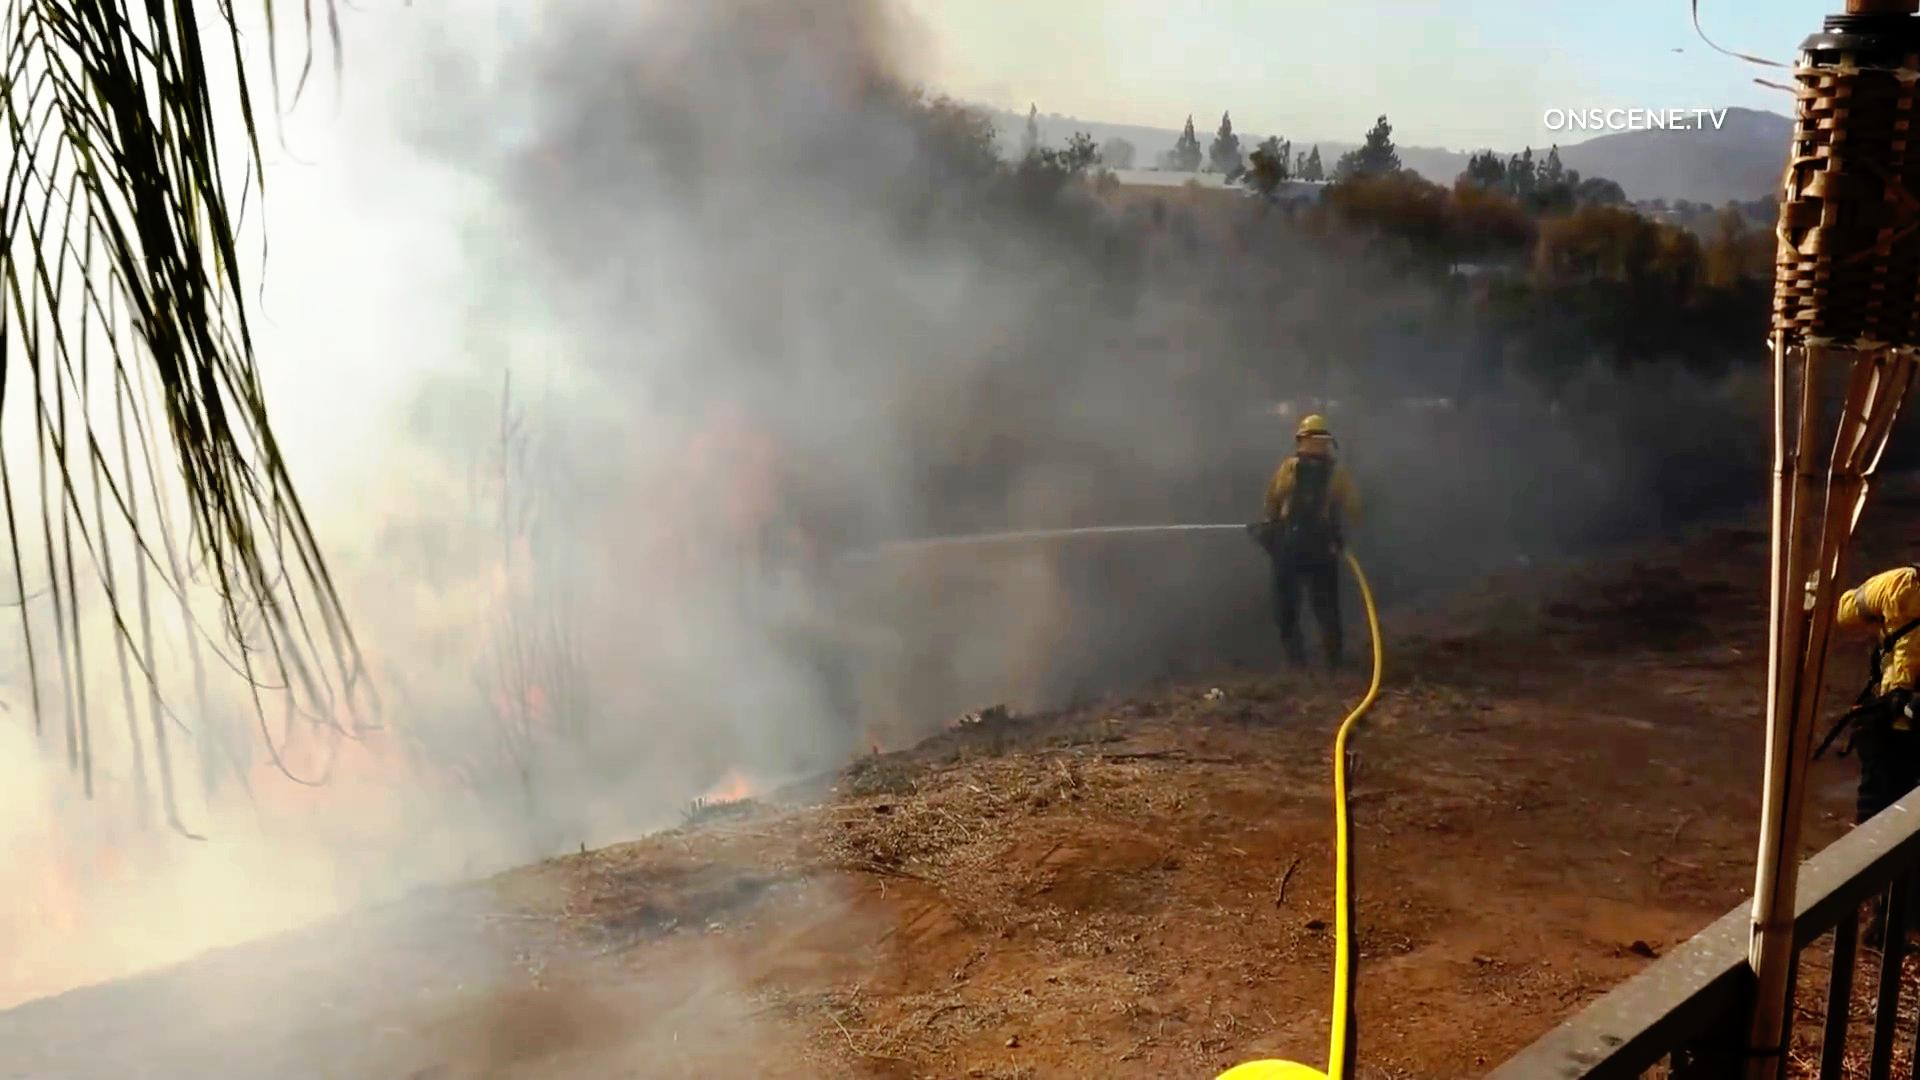smoke: (415, 16, 905, 390), (11, 800, 469, 1080), (931, 200, 1400, 402)
